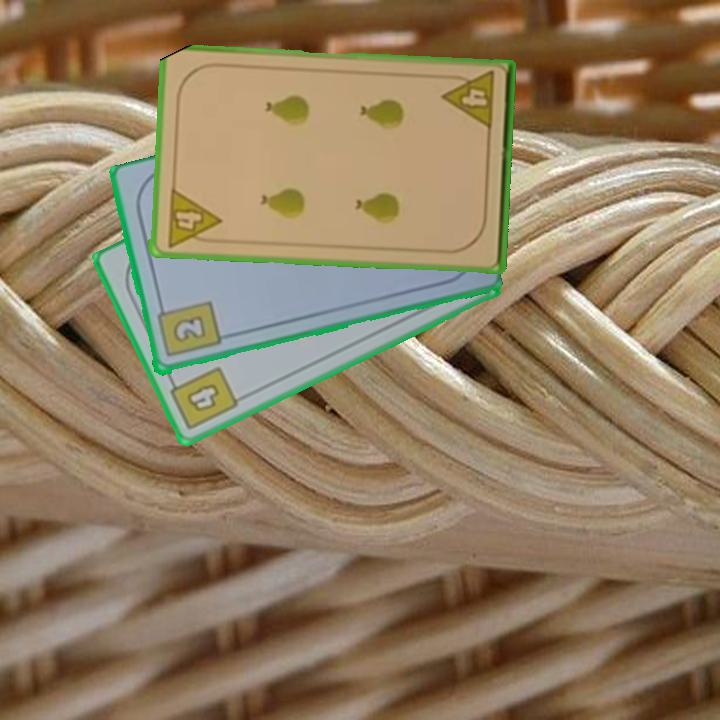2b: (153, 298, 223, 361)
4b: (164, 363, 241, 434)
4p: (163, 184, 222, 250), (439, 68, 498, 133)
